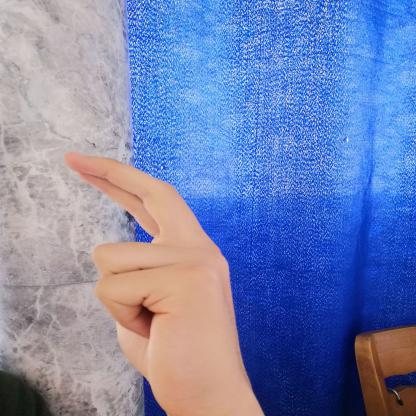ZAY: (47, 143, 269, 414)
